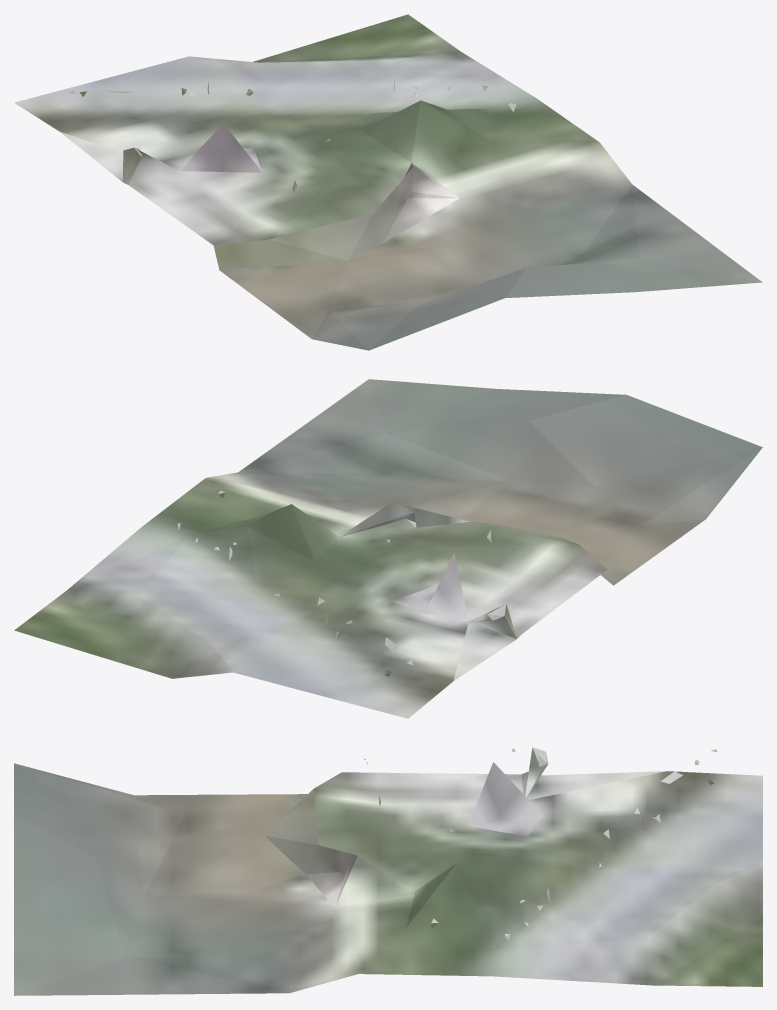
Rendered from Tile__000__000_L15_0.glb.
3 renders of one model, top to bottom at view 1: azimuth 30°, elevation 25°; view 2: azimuth 150°, elevation 25°; view 3: azimuth 270°, elevation 25°, orthographic. The views are drawn at different scales.
Parts seen in each view (by area): view 1: root; view 2: root; view 3: root.
Boxes of the visible parts, <box> form: root: <box>14,14,762,350</box>; root: <box>14,379,762,718</box>; root: <box>14,747,762,995</box>.
Size of the model in its own units: 60.71 by 11.59 by 94.67.
1 material, 1 textured.
